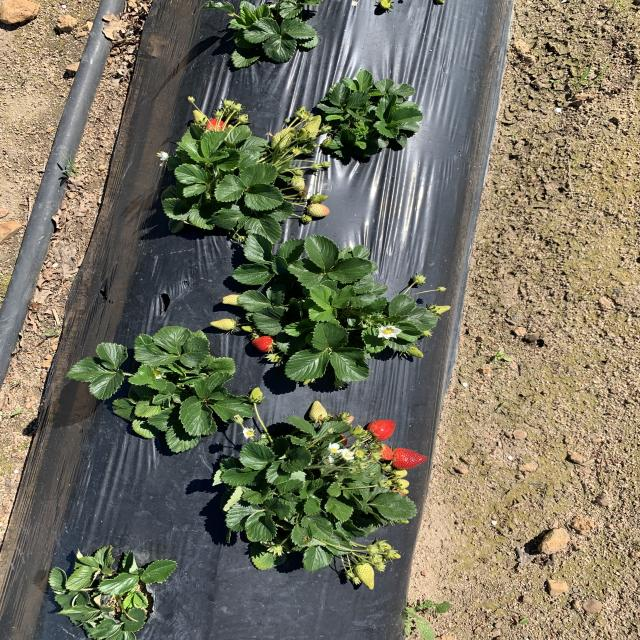unripe: (391, 447, 427, 470), (365, 419, 397, 441), (200, 116, 232, 138), (250, 334, 275, 353)
